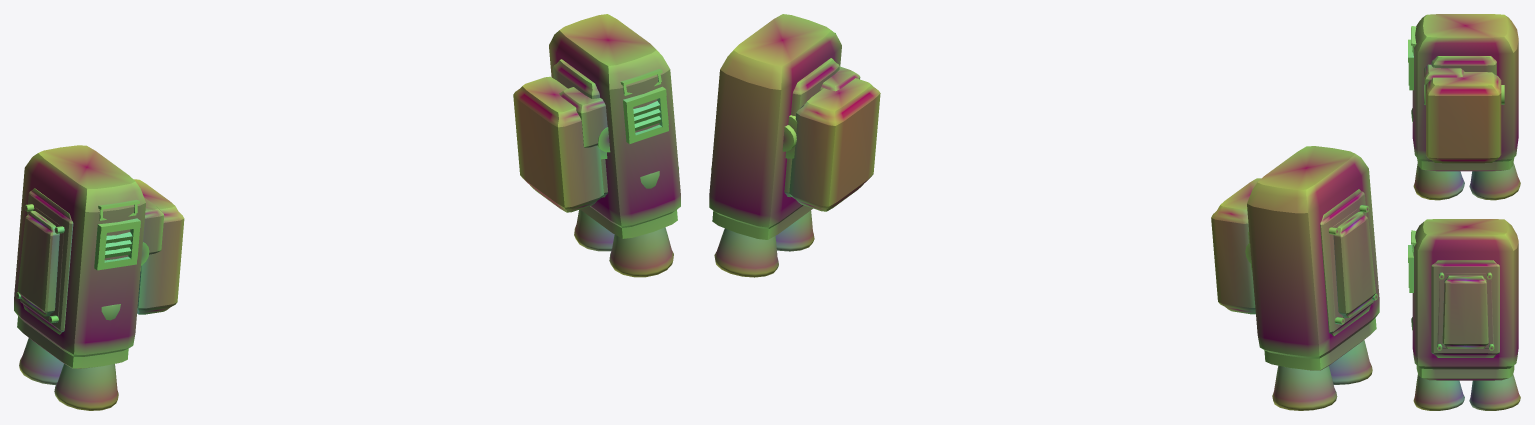
Rendered from llm_gen_leg_thrusters_045_376581.glb.
3 renders of one model, left to right at view 1: azimuth 30°, elevation 25°; view 2: azimuth 150°, elevation 25°; view 3: azimuth 270°, elevation 25°, orthographic. The views are drawn at different scales.
Parts seen in each view (by area): view 1: hover_cowling_armor_1_cobalt_anodized_l, hover_cowling_armor_1_cobalt_anodized_r, adapter_calf_clamp_r, hover_flank_panel_5_barrel_metal_l, adapter_calf_clamp_l, hover_bell_fwd_7_vernier_bell_vernier_l, hover_bell_fwd_7_vernier_bell_vernier_r, adapter_sub_hover_flank_dark_4_adapter_dark_l, adapter_leg_knee_mount_dark_9_adapter_dark_r, adapter_sub_hover_manifold_dark_6_adapter_dark_l, adapter_sub_hover_intake_grille_2_dark_r, adapter_sub_hover_intake_grille_2_dark_l (+7 smaller); view 2: hover_cowling_armor_1_cobalt_anodized_l, hover_cowling_armor_1_cobalt_anodized_r, adapter_calf_clamp_r, adapter_calf_clamp_l, hover_flank_panel_5_barrel_metal_l, hover_bell_aft_8_vernier_bell_vernier_l, hover_bell_aft_8_vernier_bell_vernier_r, adapter_sub_hover_flank_dark_4_adapter_dark_l, adapter_sub_hover_manifold_dark_6_adapter_dark_l, hover_core_mount_0_adapter_dark_r, hover_bell_fwd_7_vernier_bell_vernier_l, adapter_sub_hover_manifold_dark_6_adapter_dark_r (+1 smaller); view 3: hover_cowling_armor_1_cobalt_anodized_r, hover_cowling_armor_1_cobalt_anodized_l, adapter_calf_clamp_l, hover_flank_panel_5_barrel_metal_r, adapter_sub_hover_flank_dark_4_adapter_dark_r, hover_bell_aft_8_vernier_bell_vernier_r, hover_bell_fwd_7_vernier_bell_vernier_r, hover_bell_aft_8_vernier_bell_vernier_l, hover_bell_fwd_7_vernier_bell_vernier_l, adapter_sub_hover_manifold_dark_6_adapter_dark_r, hover_core_mount_0_adapter_dark_l, adapter_sub_hover_manifold_dark_6_adapter_dark_l (+3 smaller).
Part boxes in pixels (left/top/right/bottom): hover_cowling_armor_1_cobalt_anodized_l: left=14, top=145, right=145, bottom=356; hover_cowling_armor_1_cobalt_anodized_r: left=549, top=14, right=680, bottom=227; adapter_calf_clamp_r: left=513, top=76, right=607, bottom=212; hover_flank_panel_5_barrel_metal_l: left=16, top=204, right=64, bottom=323; adapter_calf_clamp_l: left=134, top=179, right=184, bottom=314; hover_bell_fwd_7_vernier_bell_vernier_l: left=54, top=364, right=118, bottom=410; hover_bell_fwd_7_vernier_bell_vernier_r: left=609, top=227, right=673, bottom=277; adapter_sub_hover_flank_dark_4_adapter_dark_l: left=20, top=188, right=73, bottom=334; adapter_leg_knee_mount_dark_9_adapter_dark_r: left=559, top=87, right=607, bottom=147; adapter_sub_hover_manifold_dark_6_adapter_dark_l: left=17, top=316, right=128, bottom=368; adapter_sub_hover_intake_grille_2_dark_r: left=623, top=86, right=668, bottom=144; adapter_sub_hover_intake_grille_2_dark_l: left=94, top=218, right=140, bottom=270; hover_cowling_armor_1_cobalt_anodized_l: left=1247, top=146, right=1379, bottom=358; hover_cowling_armor_1_cobalt_anodized_r: left=709, top=14, right=841, bottom=229; adapter_calf_clamp_r: left=785, top=78, right=880, bottom=211; adapter_calf_clamp_l: left=1211, top=178, right=1261, bottom=314; hover_flank_panel_5_barrel_metal_l: left=1328, top=205, right=1377, bottom=324; hover_bell_aft_8_vernier_bell_vernier_l: left=1272, top=365, right=1337, bottom=410; hover_bell_aft_8_vernier_bell_vernier_r: left=714, top=228, right=778, bottom=277; adapter_sub_hover_flank_dark_4_adapter_dark_l: left=1320, top=189, right=1373, bottom=336; adapter_sub_hover_manifold_dark_6_adapter_dark_l: left=1264, top=318, right=1376, bottom=370; hover_core_mount_0_adapter_dark_r: left=784, top=58, right=839, bottom=197; hover_bell_fwd_7_vernier_bell_vernier_l: left=1329, top=340, right=1372, bottom=384; adapter_sub_hover_manifold_dark_6_adapter_dark_r: left=712, top=205, right=812, bottom=239; hover_cowling_armor_1_cobalt_anodized_r: left=1412, top=219, right=1518, bottom=369; hover_cowling_armor_1_cobalt_anodized_l: left=1412, top=14, right=1518, bottom=161; adapter_calf_clamp_l: left=1426, top=72, right=1501, bottom=163; hover_flank_panel_5_barrel_metal_r: left=1436, top=272, right=1494, bottom=350; adapter_sub_hover_flank_dark_4_adapter_dark_r: left=1431, top=260, right=1499, bottom=357; hover_bell_aft_8_vernier_bell_vernier_r: left=1469, top=374, right=1520, bottom=410; hover_bell_fwd_7_vernier_bell_vernier_r: left=1413, top=375, right=1464, bottom=410; hover_bell_aft_8_vernier_bell_vernier_l: left=1469, top=162, right=1520, bottom=200; hover_bell_fwd_7_vernier_bell_vernier_l: left=1413, top=163, right=1464, bottom=200; adapter_sub_hover_manifold_dark_6_adapter_dark_r: left=1416, top=365, right=1514, bottom=380; hover_core_mount_0_adapter_dark_l: left=1431, top=56, right=1496, bottom=75; adapter_sub_hover_manifold_dark_6_adapter_dark_l: left=1417, top=158, right=1514, bottom=171.
Size of the model in its own units: 84.5 by 27.92 by 16.48.
